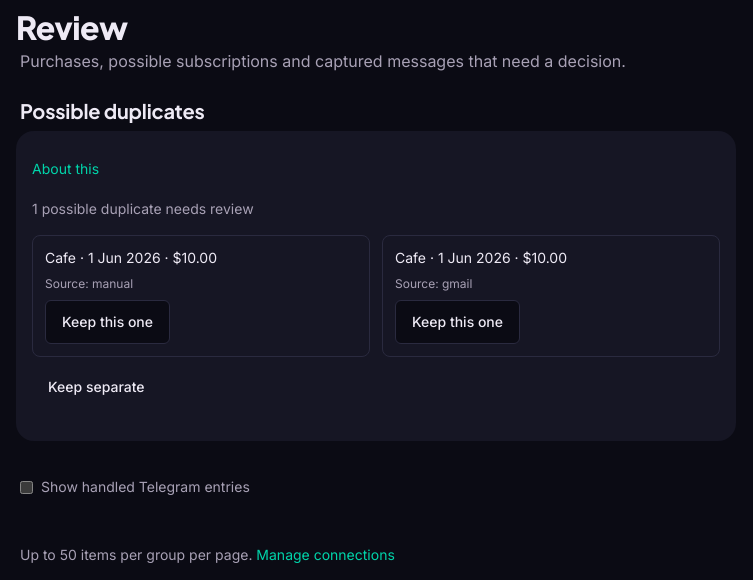
Test case: keeps one side of a duplicate pair and offers to undo the merge
The image size is (753, 580).
Check: the text "1 possible duplicate needs review" is shown, box [32, 200, 254, 217]
Step 1. Click the button "Keep this one" below "manual" → (108, 322), box [45, 300, 170, 344]
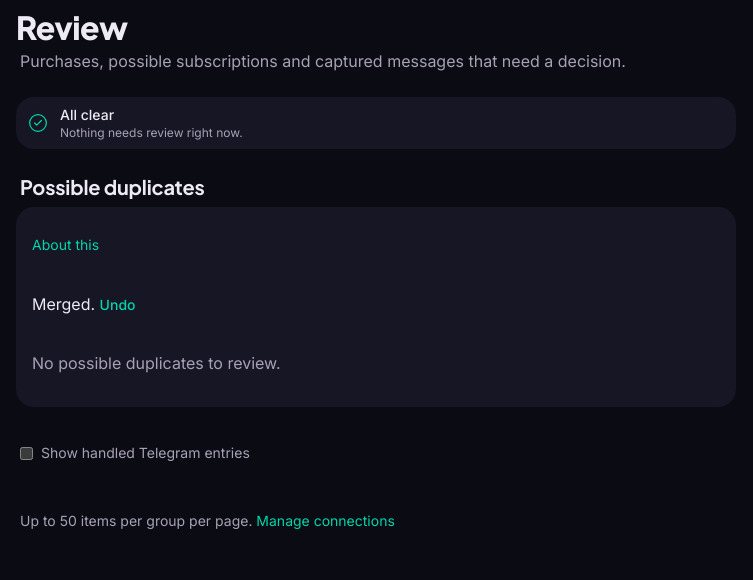
Check: the text "No possible duplicates to review." is shown, box [32, 353, 281, 373]
Step 2. Click the button "Undo" → (118, 305), box [100, 283, 136, 327]
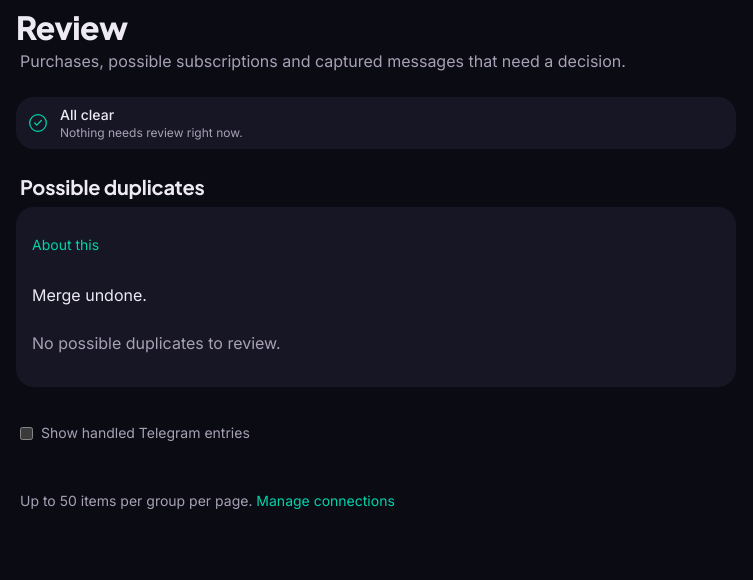
Check: the text "Merge undone." is shown, box [32, 285, 147, 305]
